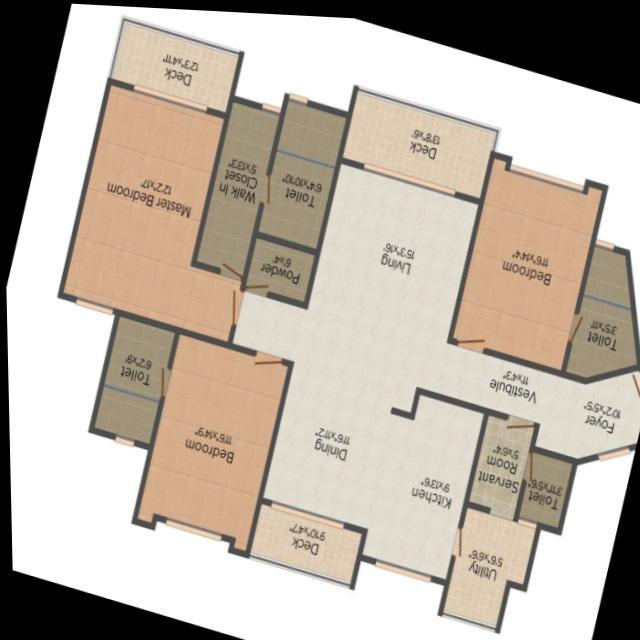Bedroom: (129, 325, 292, 555)
Bedroom with Toilet: (53, 74, 228, 332), (446, 145, 638, 377)
Dress: (189, 89, 283, 280)
Kitchen: (352, 375, 487, 581)
Living: (301, 154, 479, 344)
Toilet: (250, 89, 350, 251), (84, 308, 176, 449), (560, 233, 636, 377), (513, 440, 573, 524)
Utility: (436, 501, 536, 627)
